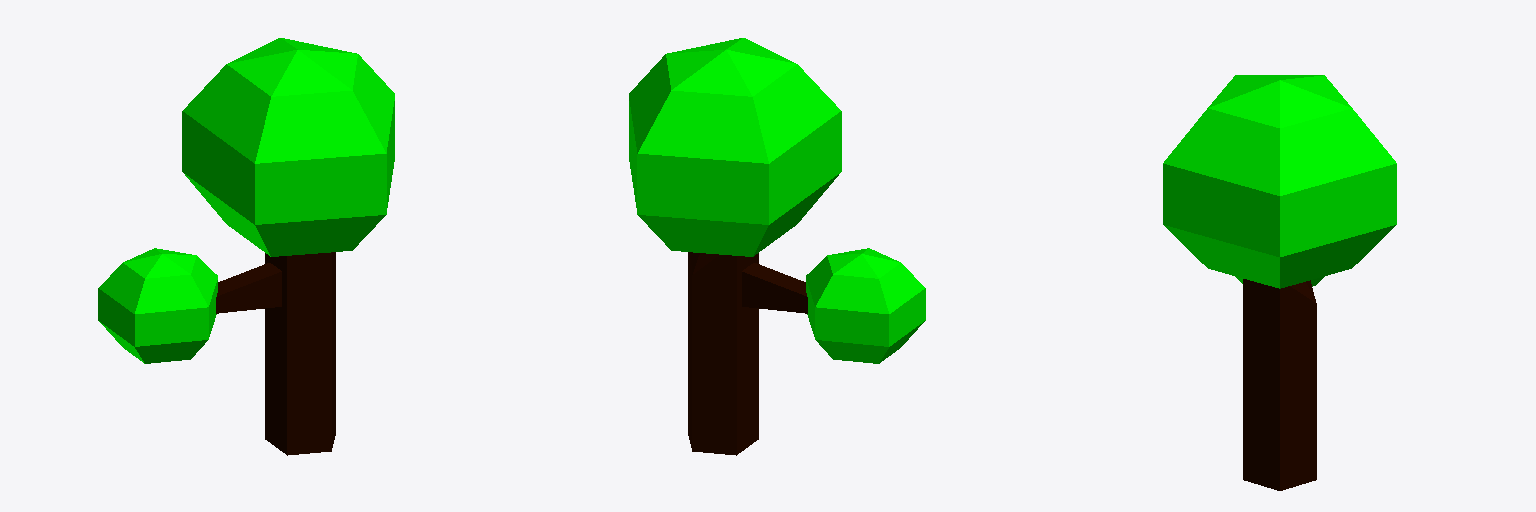
Rendered from Tree1.obj.
3 renders of one model, left to right at view 1: azimuth 30°, elevation 25°; view 2: azimuth 150°, elevation 25°; view 3: azimuth 270°, elevation 25°, orthographic.
Visible parts, largest first — view 1: pSphere2, pCylinder1, pSphere1; view 2: pSphere2, pCylinder1, pSphere1; view 3: pSphere2, pCylinder1.
Part boxes in pixels (x1,y1,x2,y2): pSphere2: (182,38,394,256); pCylinder1: (216,252,335,455); pSphere1: (98,248,217,363); pSphere2: (629,38,841,256); pCylinder1: (688,252,807,455); pSphere1: (806,248,925,363); pSphere2: (1163,75,1396,288); pCylinder1: (1243,279,1316,490).
Bounding box in the file's own units: 8.37 × 11.25 × 6.09.